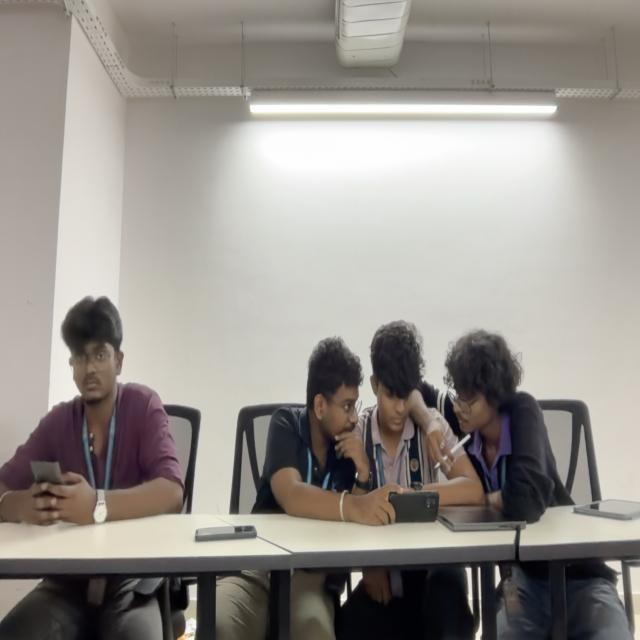Isolated: (0, 291, 187, 524)
socializing: (251, 318, 577, 529)
